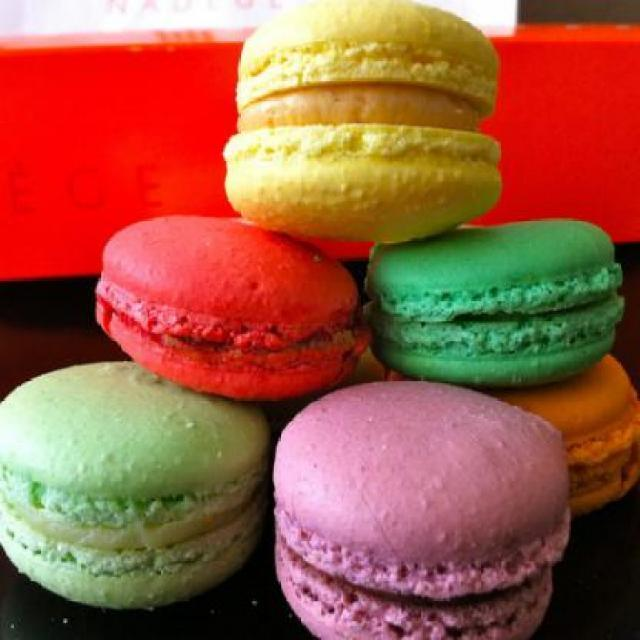Macaron: (3, 1, 640, 638)
